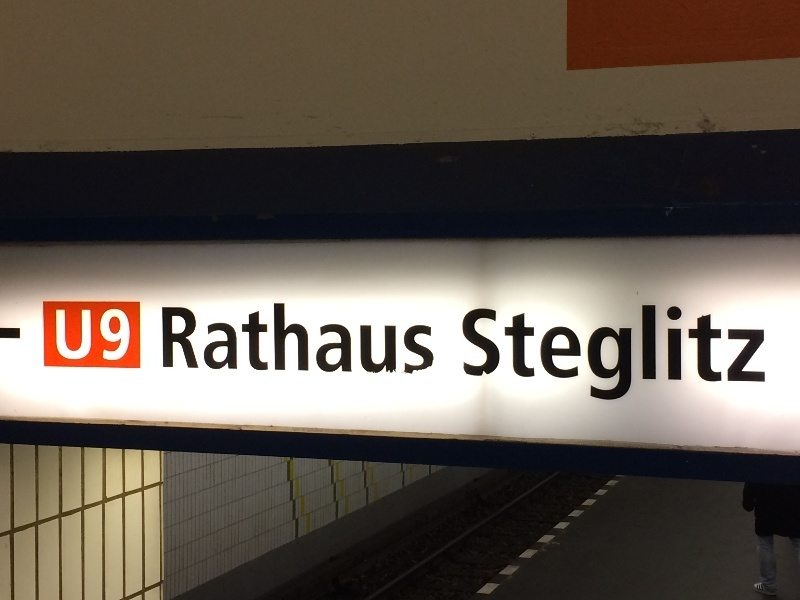text: (465, 303, 480, 415), (481, 303, 496, 415), (497, 303, 512, 415), (513, 303, 528, 415), (529, 303, 544, 415), (545, 303, 560, 415), (561, 303, 576, 415), (577, 303, 592, 415), (593, 303, 608, 415), (609, 303, 624, 415), (625, 303, 640, 415), (641, 303, 656, 415), (657, 303, 672, 415), (673, 303, 688, 415), (689, 303, 704, 415), (705, 303, 720, 415), (721, 303, 736, 415), (737, 303, 752, 415), (753, 303, 766, 415), (177, 303, 192, 376), (193, 303, 208, 376), (209, 303, 224, 376), (225, 303, 240, 376), (241, 303, 256, 376), (257, 303, 272, 376), (273, 303, 288, 376), (289, 303, 304, 376), (305, 303, 320, 376), (321, 303, 336, 376), (337, 303, 352, 376), (353, 303, 368, 376), (369, 303, 384, 376), (385, 303, 400, 376), (401, 303, 416, 376), (417, 303, 432, 376), (162, 303, 176, 376), (65, 308, 80, 363), (81, 308, 96, 363), (97, 308, 112, 363), (113, 308, 128, 363), (55, 308, 64, 363), (462, 303, 464, 415), (433, 303, 435, 376), (129, 308, 131, 363)
